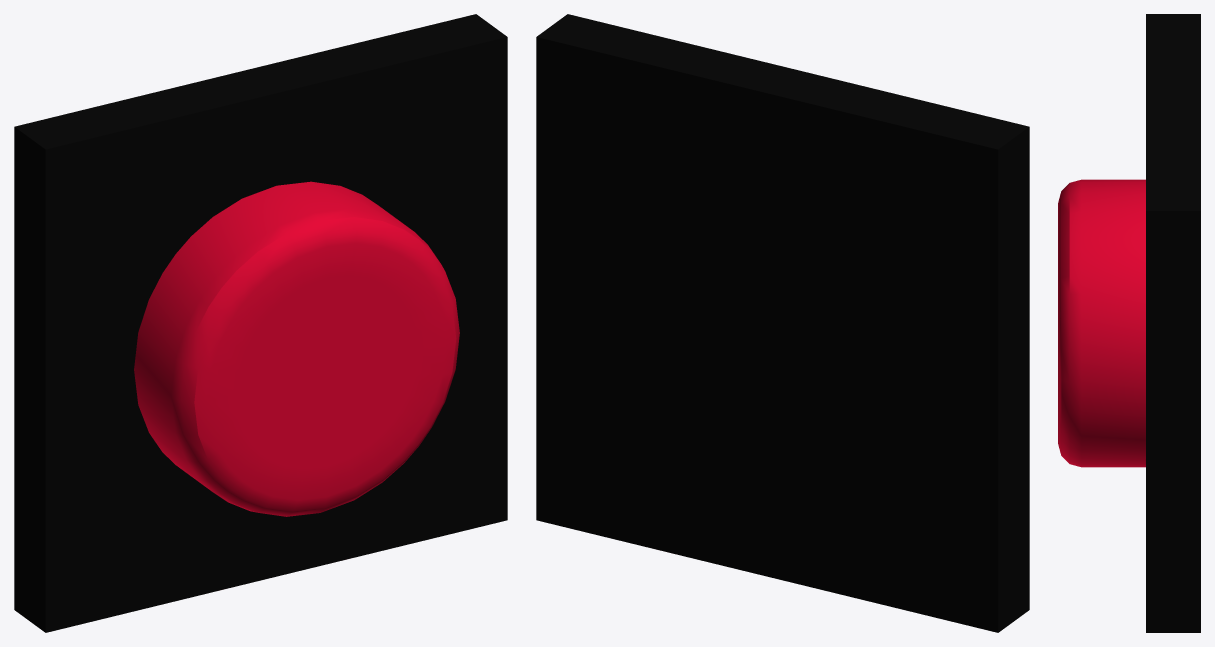
Rendered from Clicker.fbx.
3 renders of one model, left to right at view 1: azimuth 30°, elevation 25°; view 2: azimuth 150°, elevation 25°; view 3: azimuth 270°, elevation 25°, orthographic. The views are drawn at different scales.
Parts seen in each view (by area): view 1: Cube.001; view 2: Cube.001; view 3: Cube.001.
Part boxes in pixels (x1,y1,x2,y2): Cube.001: [14, 14, 507, 632]; Cube.001: [536, 14, 1029, 632]; Cube.001: [1058, 14, 1200, 632].
Bounding box in the file's own units: 200 × 200 × 61.33.
